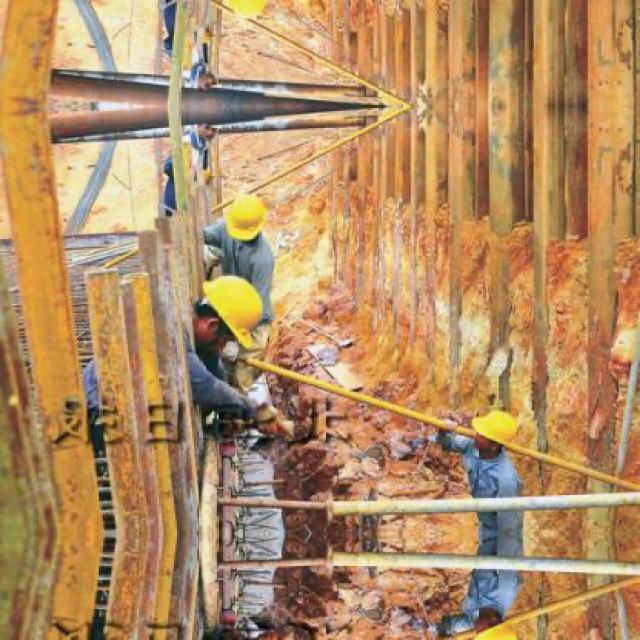con casco: (170, 276, 286, 364), (178, 184, 290, 257), (430, 392, 512, 468)
